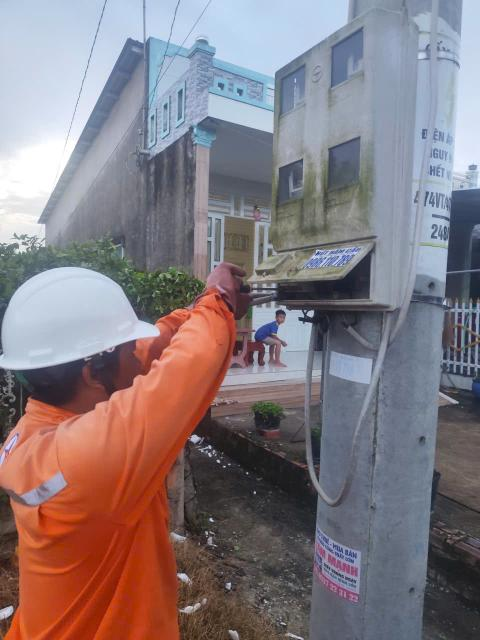gloves: (179, 248, 268, 333)
helmet: (0, 256, 162, 386)
